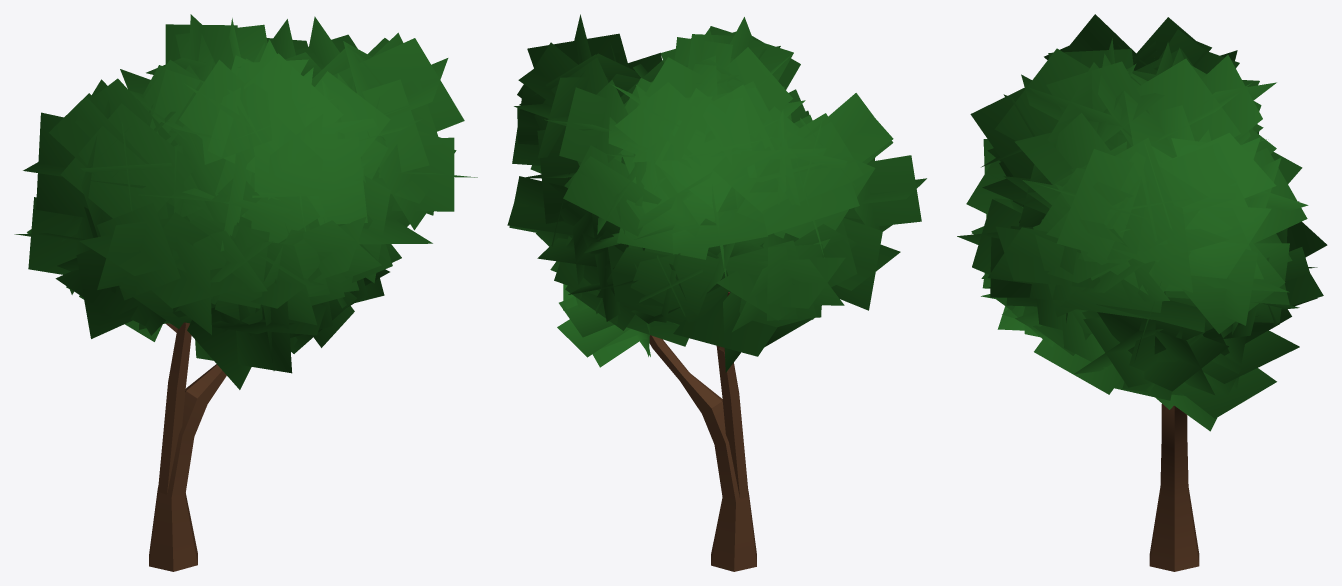
The model's file is SM_tree_02.fbx.
3 views of the same model, side by side, from view 1: azimuth 30°, elevation 25°; view 2: azimuth 150°, elevation 25°; view 3: azimuth 270°, elevation 25° (orthographic). The views are drawn at different scales.
Visible parts, largest first — view 1: Object32376; view 2: Object32376; view 3: Object32376.
Part boxes in pixels (x1,y1,x2,y2): Object32376: (14, 14, 477, 571); Object32376: (507, 14, 926, 571); Object32376: (957, 14, 1327, 571).
Bounding box in the file's own units: 201 × 258 × 162.
